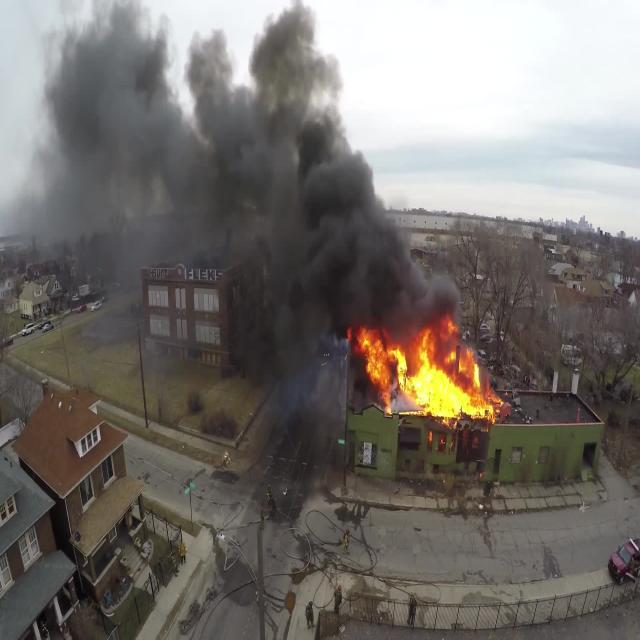Fire: (348, 322, 510, 424)
Smoke: (5, 1, 463, 322)
